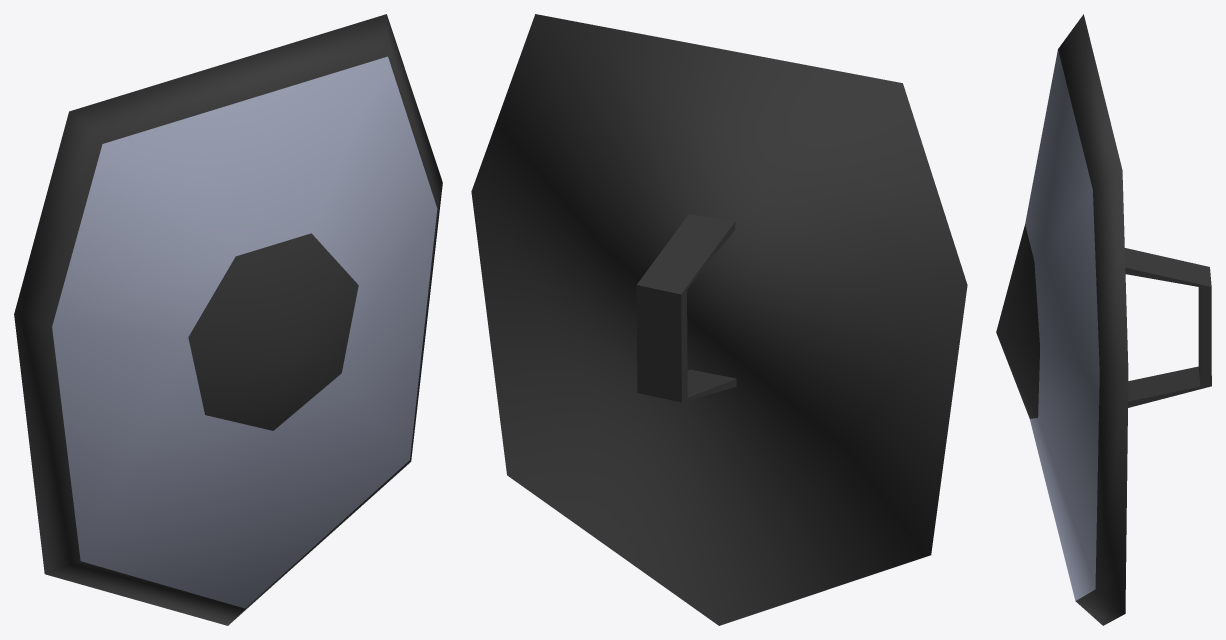
File: steel_shield.glb
3 renders of one model, left to right at view 1: azimuth 30°, elevation 25°; view 2: azimuth 150°, elevation 25°; view 3: azimuth 270°, elevation 25°, orthographic. The views are drawn at different scales.
Parts seen in each view (by area): view 1: Steel Shield; view 2: Steel Shield; view 3: Steel Shield.
Part boxes in pixels (x1=…): Steel Shield: x1=14, y1=14, x2=442, y2=625; Steel Shield: x1=471, y1=14, x2=967, y2=625; Steel Shield: x1=996, y1=14, x2=1211, y2=625.
Size of the model in its own units: 0.2506 by 0.2955 by 0.1082.
